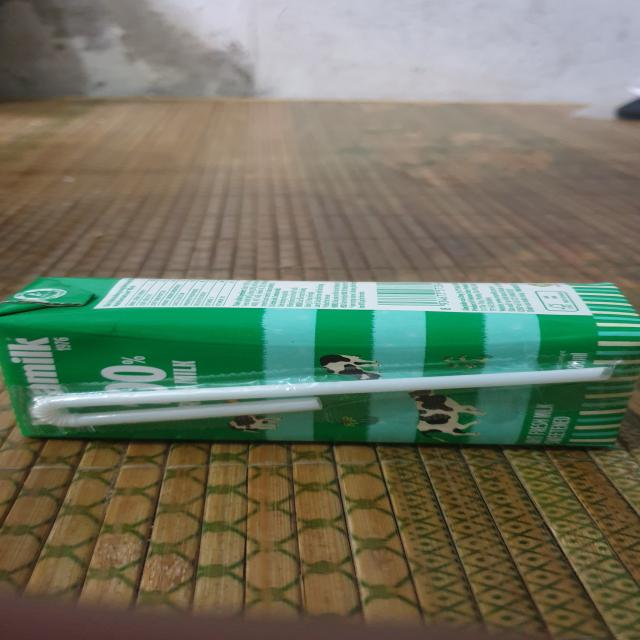Vina: (2, 273, 640, 453)
